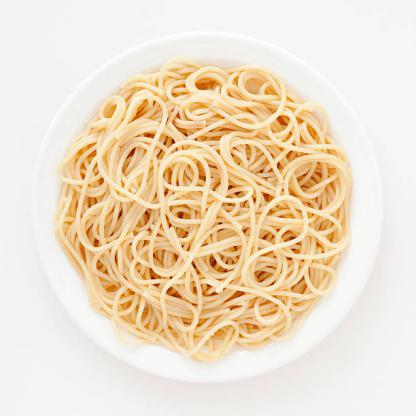Noodles: (54, 58, 355, 362)
